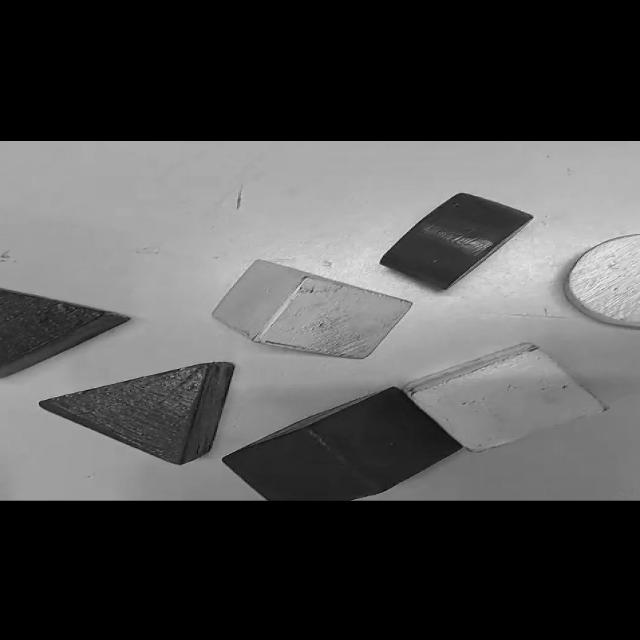btriangle: (0, 288, 129, 378)
rcircle: (380, 193, 532, 289)
rcube: (222, 387, 459, 500)
rtriangle: (40, 362, 233, 465)
ycircle: (565, 234, 639, 328)
ycube: (404, 343, 607, 451)
ytriangle: (213, 259, 411, 358)
